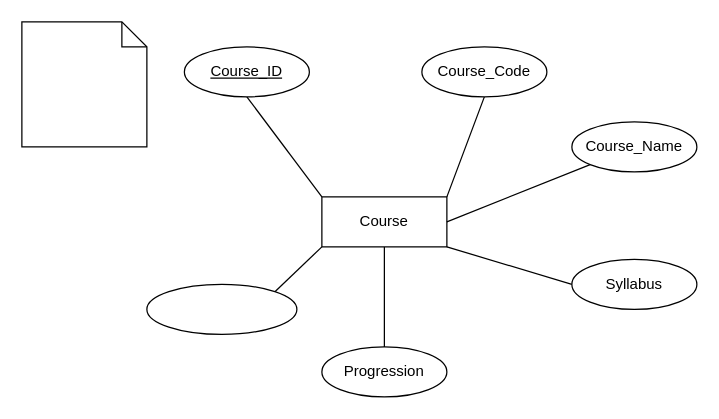
This 719x419 diagram has some shape labels left out. Here are the shapes that lost their labels. From the top down, the centre of each, then its label:
At point 84,84: "Course_ID (Primär nyckel)".
At point 221,308: "Course_Post_Date".
